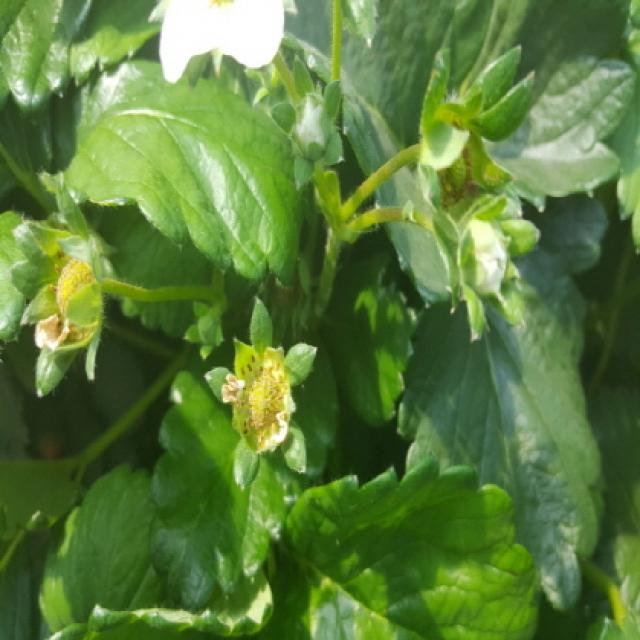Blossom Blight: (219, 350, 298, 453)
